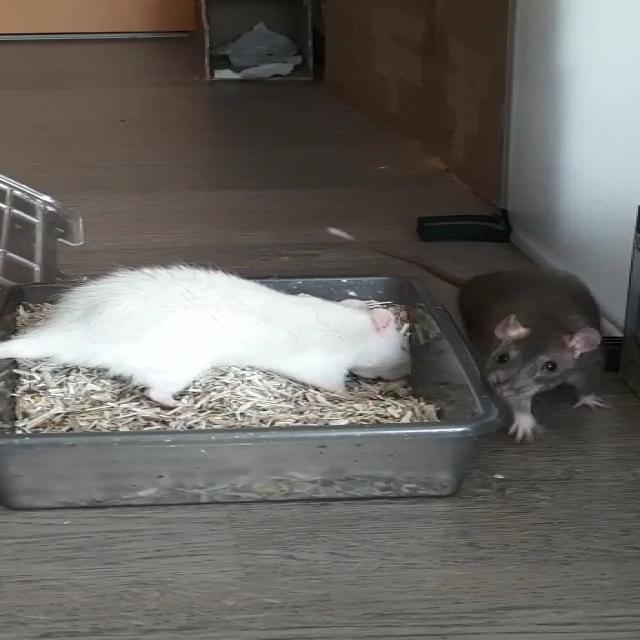rat: (26, 265, 431, 408), (456, 270, 620, 446)
